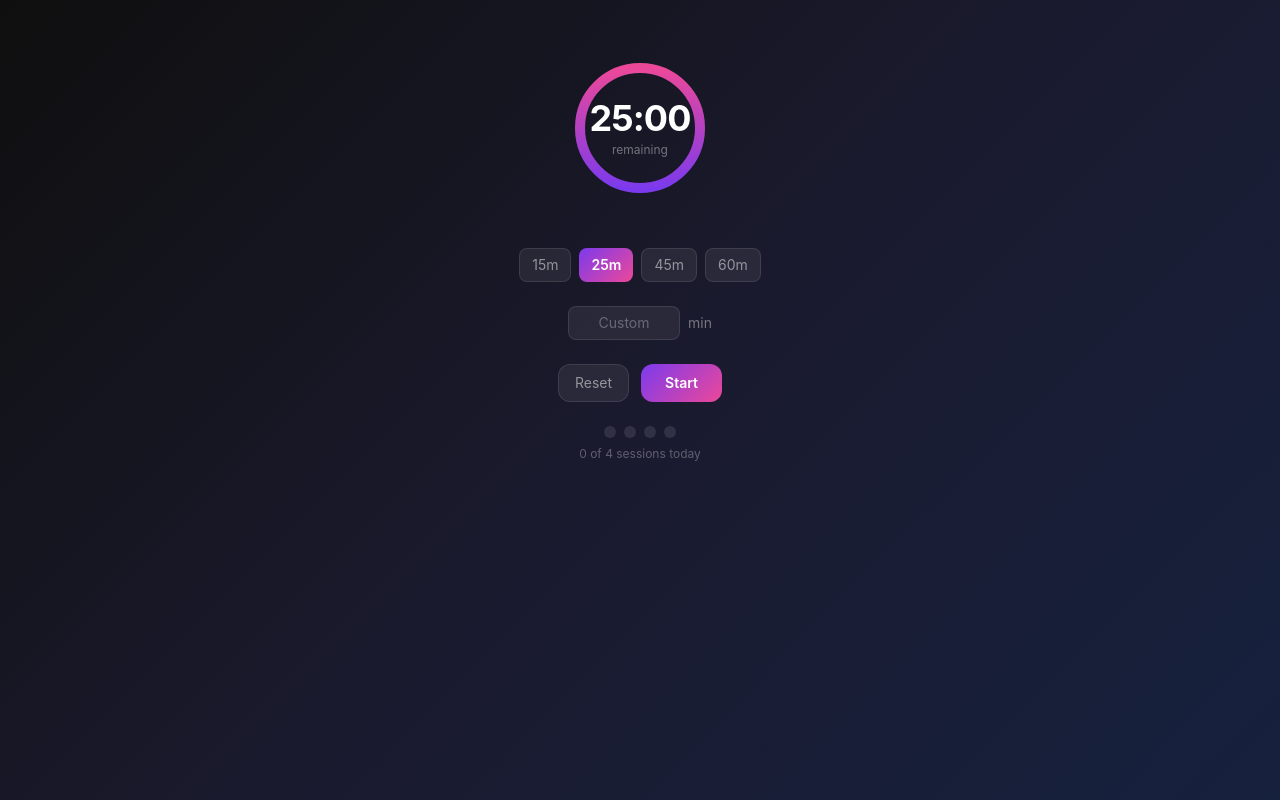
Test: FocusTimer › changes to 15:00 when 15m is selected
Click the button "15m" at (545,265), box [519, 248, 572, 282]
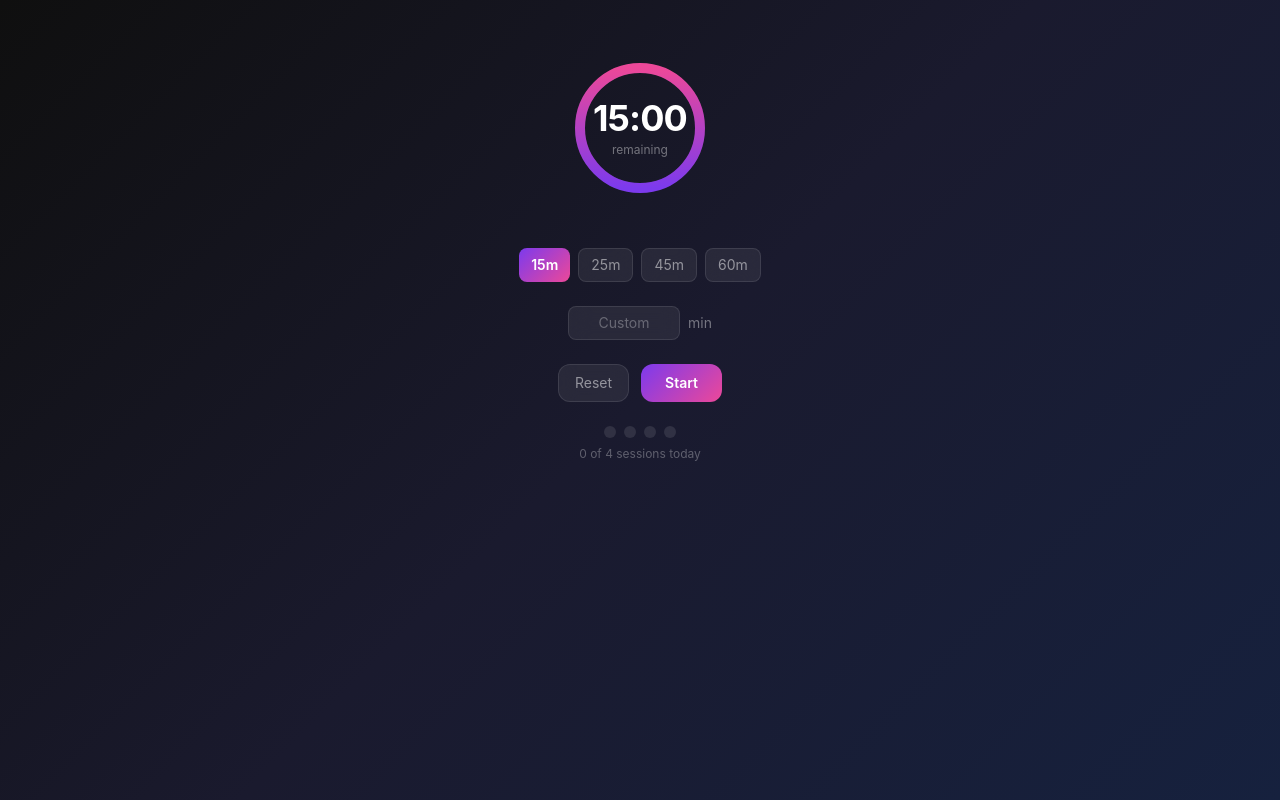
Expected: the text "15:00" is shown, [593, 98, 687, 138]
